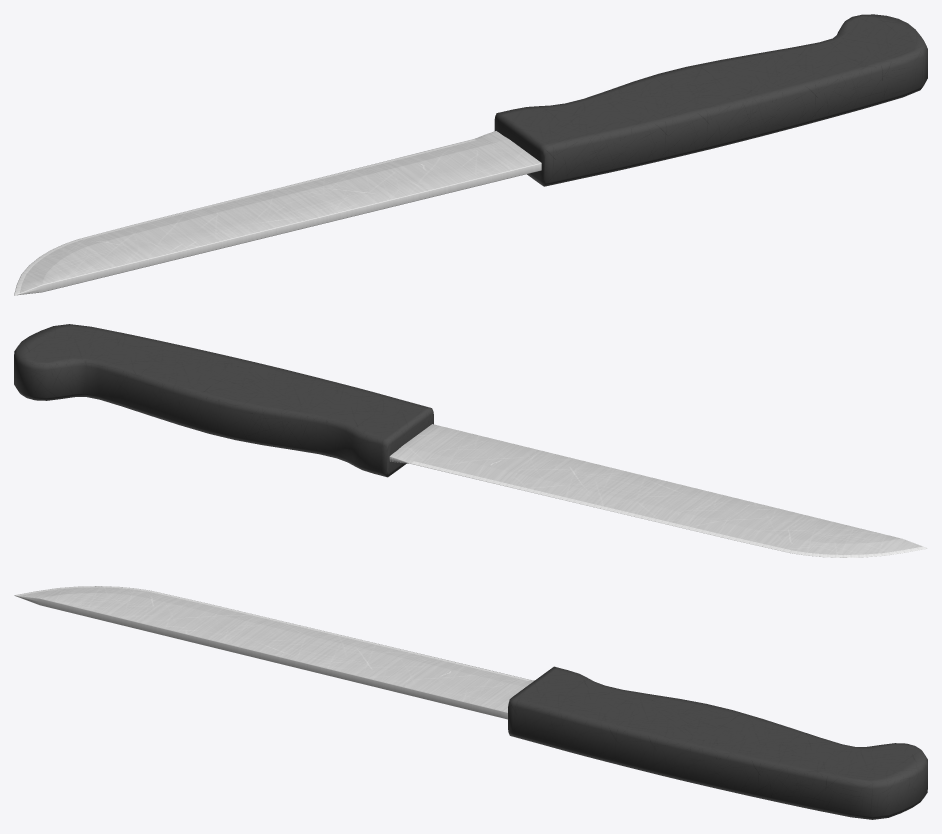
Rendered from Knife_1.obj.
The picture shows the model from 3 angles, top to bottom: view 1: azimuth 30°, elevation 25°; view 2: azimuth 150°, elevation 25°; view 3: azimuth 330°, elevation 25°; orthographic projection. The views are drawn at different scales.
Visible parts, largest first — view 1: Knife_1; view 2: Knife_1; view 3: Knife_1.
Part boxes in pixels (x1=…): Knife_1: x1=14, y1=14, x2=927, y2=295; Knife_1: x1=14, y1=324, x2=927, y2=557; Knife_1: x1=14, y1=586, x2=927, y2=819.
Bounding box in the file's own units: 250 × 10 × 29.49.
Materials: 1 (1 with a texture image).
